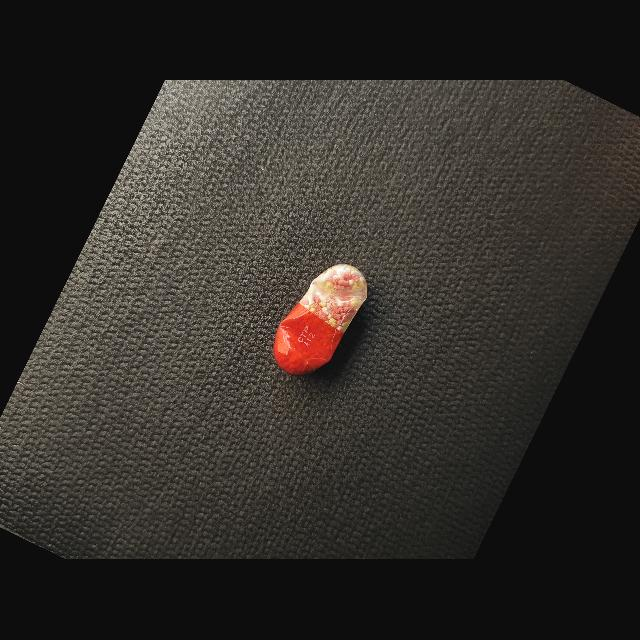Defective Capsule: (273, 265, 367, 376)
